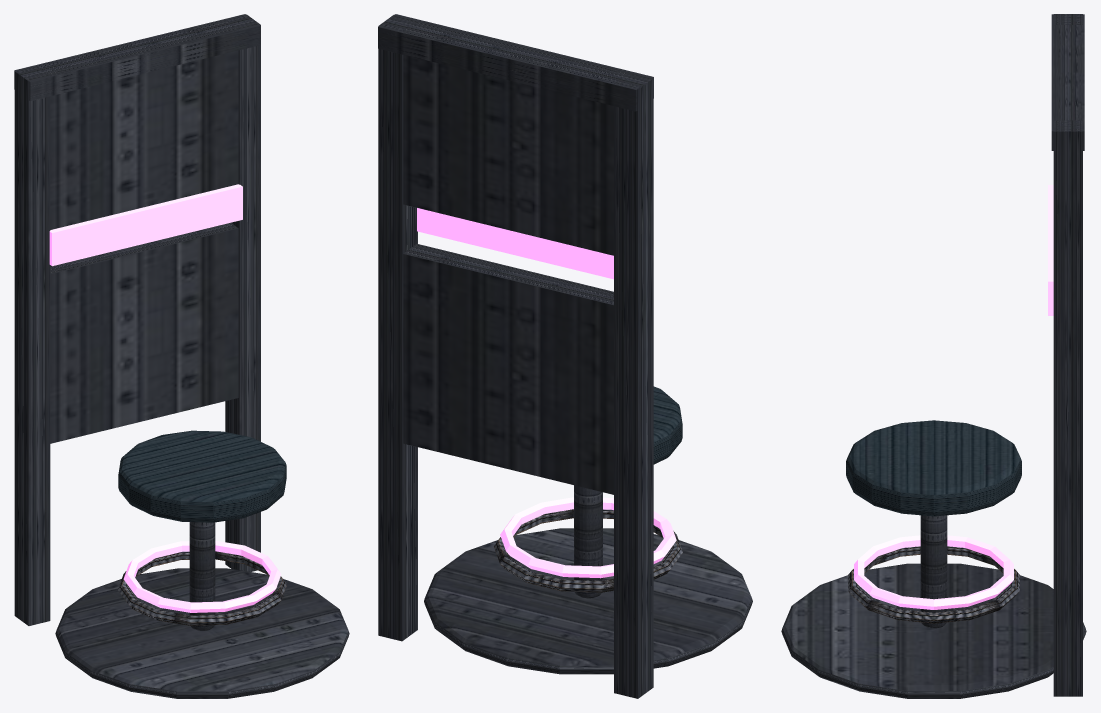
The model's file is fun_stool.glb.
3 views of the same model, side by side, from view 1: azimuth 30°, elevation 25°; view 2: azimuth 150°, elevation 25°; view 3: azimuth 270°, elevation 25° (orthographic). The views are drawn at different scales.
Parts seen in each view (by area): view 1: sight_shell, foot, seat, sightglow, ring1, ring0, post; view 2: sight_shell, foot, sightglow, ring1, ring0, post, seat; view 3: foot, sight_shell, seat, ring1, ring0, post, sightglow.
Part boxes in pixels (x1,y1,x2,y2): sight_shell: [14, 14, 260, 625]; foot: [55, 568, 349, 698]; seat: [118, 430, 286, 522]; sightglow: [49, 184, 242, 266]; ring1: [123, 540, 281, 612]; ring0: [118, 551, 286, 625]; post: [189, 522, 215, 630]; sight_shell: [378, 14, 653, 698]; foot: [424, 528, 752, 674]; sightglow: [417, 208, 613, 279]; ring1: [500, 497, 676, 578]; ring0: [494, 509, 682, 592]; post: [574, 485, 602, 598]; seat: [653, 386, 682, 464]; foot: [781, 563, 1086, 698]; sight_shell: [1051, 14, 1084, 696]; seat: [846, 420, 1021, 516]; ring1: [854, 535, 1013, 609]; ring0: [848, 546, 1019, 623]; post: [920, 515, 947, 628]; sightglow: [1048, 185, 1053, 315].
Bounding box in the file's own units: 0.8194 × 1.7 × 0.832.
Materials: 6 (4 with a texture image).
